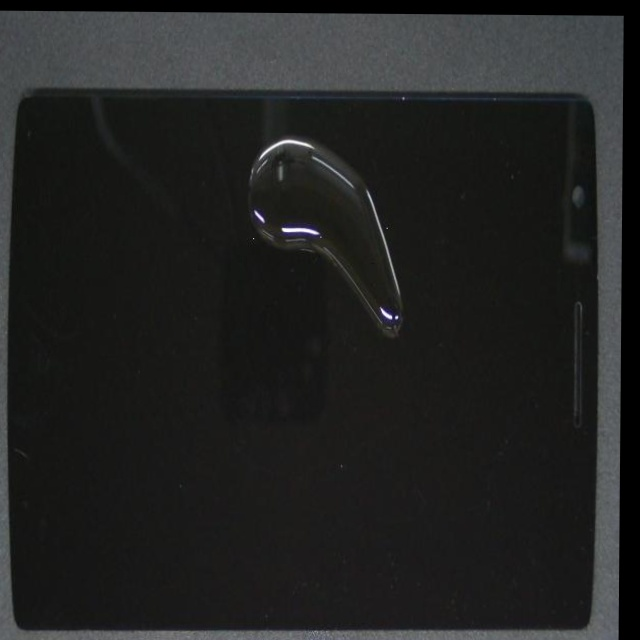oil: (184, 86, 482, 212)
